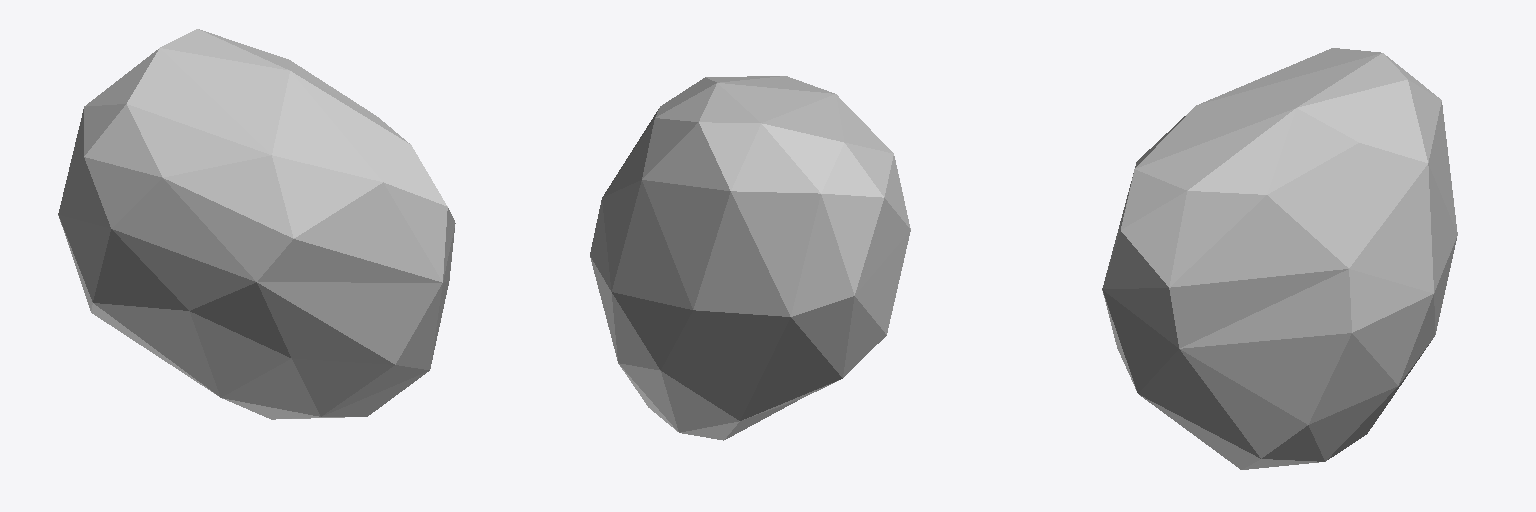
File: Rock_3_C_Color1.obj
3 renders of one model, left to right at view 1: azimuth 30°, elevation 25°; view 2: azimuth 150°, elevation 25°; view 3: azimuth 270°, elevation 25°, orthographic.
Visible parts, largest first — view 1: Rock_3_C_Color1; view 2: Rock_3_C_Color1; view 3: Rock_3_C_Color1.
Part boxes in pixels (x1,y1,x2,y2): Rock_3_C_Color1: (58,29,455,419); Rock_3_C_Color1: (590,76,910,440); Rock_3_C_Color1: (1102,48,1457,469).
Size of the model in its own units: 0.805 by 0.9676 by 0.8597.